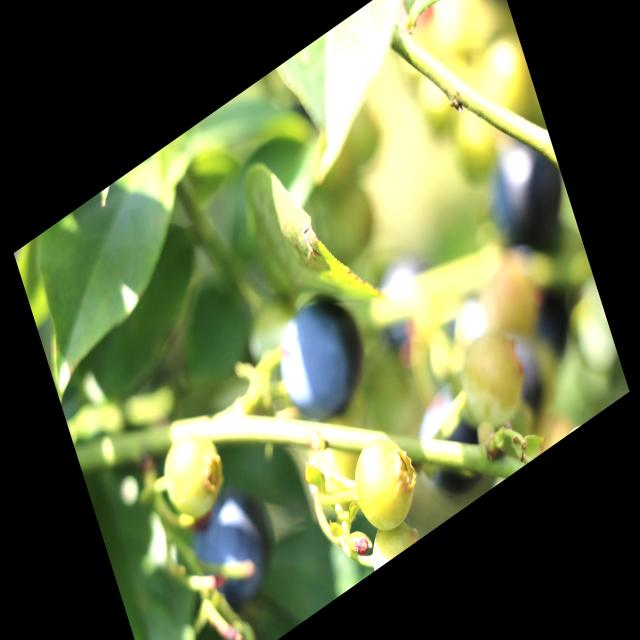blueberry: (264, 270, 383, 450), (178, 462, 292, 632), (474, 116, 576, 278), (409, 357, 509, 511), (364, 239, 447, 368), (481, 317, 554, 432)
blueberry-unripe: (343, 420, 424, 546), (152, 414, 232, 534), (362, 506, 422, 573)
